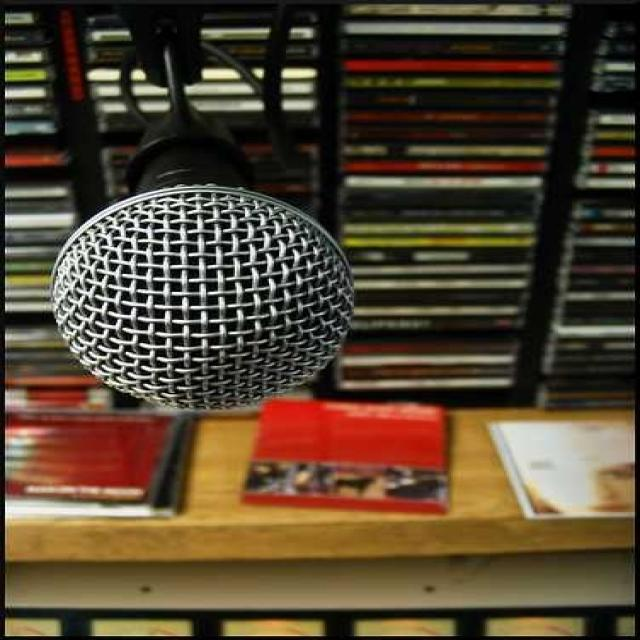microphone: (55, 188, 353, 408)
